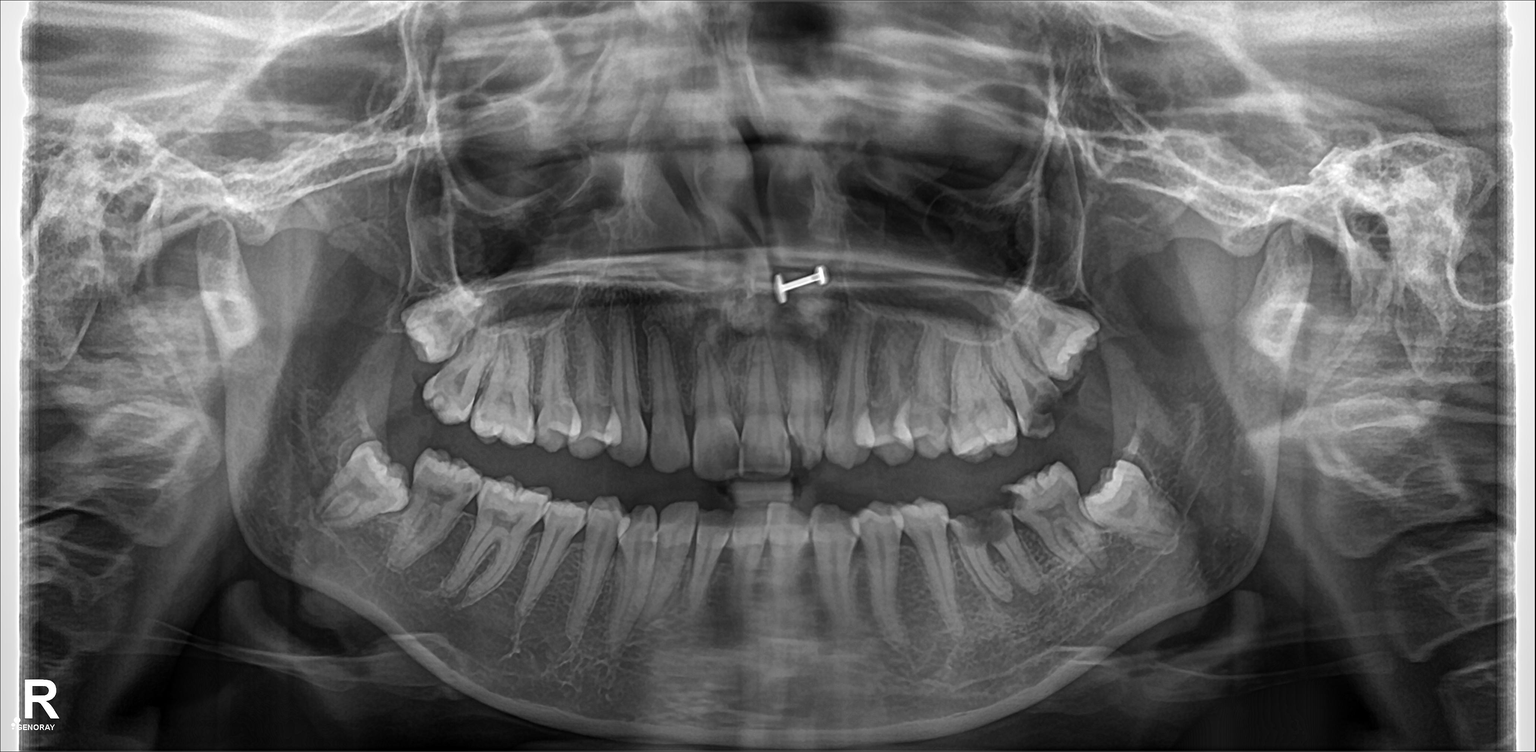Dental Caries: (1021, 382, 1061, 435), (952, 514, 1013, 548)
Impacted Third Molar: (1011, 292, 1094, 369), (304, 462, 404, 515), (1101, 463, 1164, 536), (402, 296, 480, 352)
Missing Tooth: (1060, 335, 1111, 441)
Periapical Lesion: (965, 551, 1061, 624)
Retained Root: (946, 497, 1021, 593)
